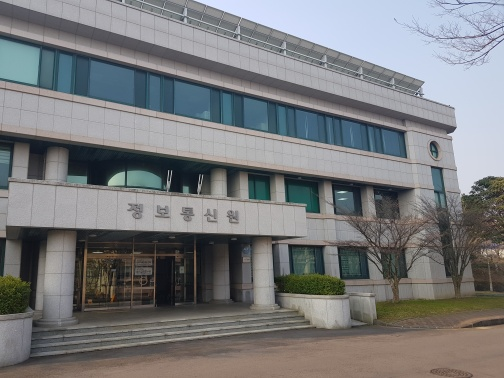Information Telecommunication Center: (1, 2, 478, 334), (47, 170, 292, 320), (127, 198, 249, 233)
